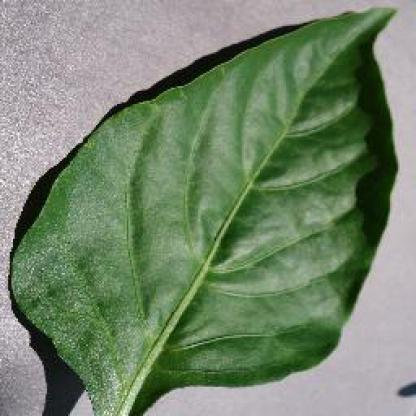good leaf: (0, 12, 402, 414)
